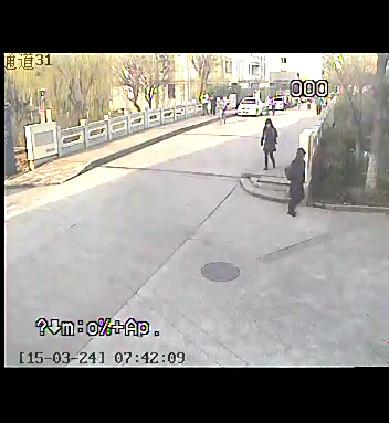person: (280, 145, 311, 217), (255, 111, 281, 172), (216, 94, 229, 129), (313, 91, 327, 118), (199, 84, 208, 118), (281, 92, 290, 112), (268, 97, 278, 114), (305, 93, 313, 112)
